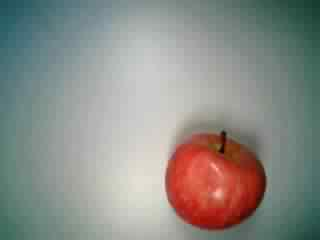apple: (165, 127, 269, 231)
